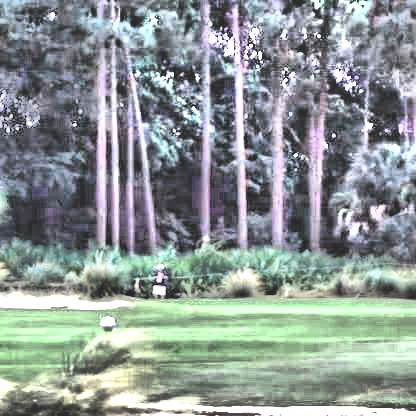golfball: (99, 314, 111, 329)
